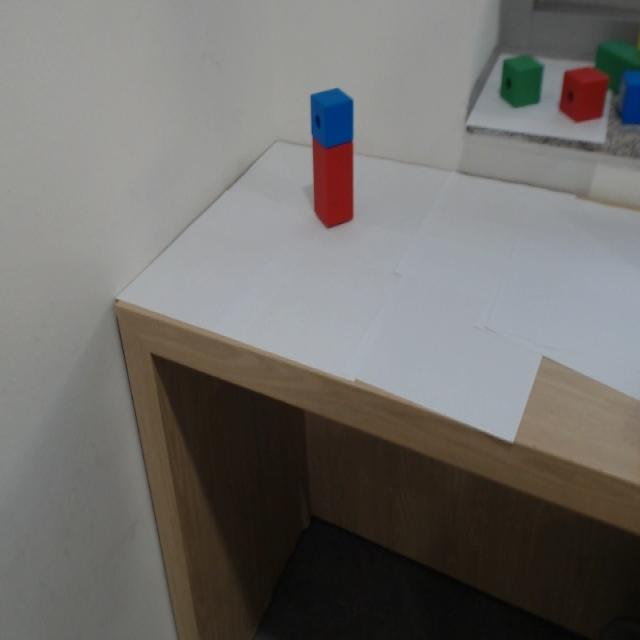cube: (300, 88, 359, 147)
